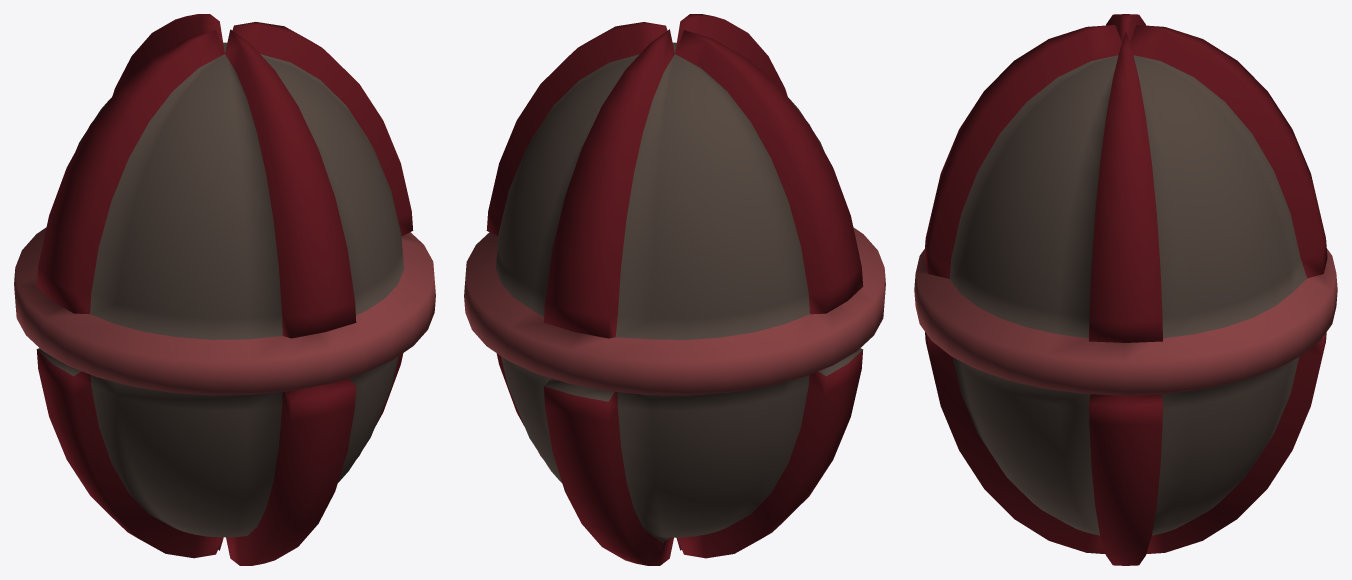
The model's file is TaddBombCapsule.fbx.
The picture shows the model from 3 angles, left to right: view 1: azimuth 30°, elevation 25°; view 2: azimuth 150°, elevation 25°; view 3: azimuth 270°, elevation 25°; orthographic projection.
Parts seen in each view (by area): view 1: Sphere; view 2: Sphere; view 3: Sphere.
Boxes of the visible parts, box(x1,y1,x2,y2) form: Sphere: box(14, 14, 435, 565); Sphere: box(464, 14, 885, 565); Sphere: box(914, 14, 1337, 565).
Bounding box in the file's own units: 233 × 322 × 233.
